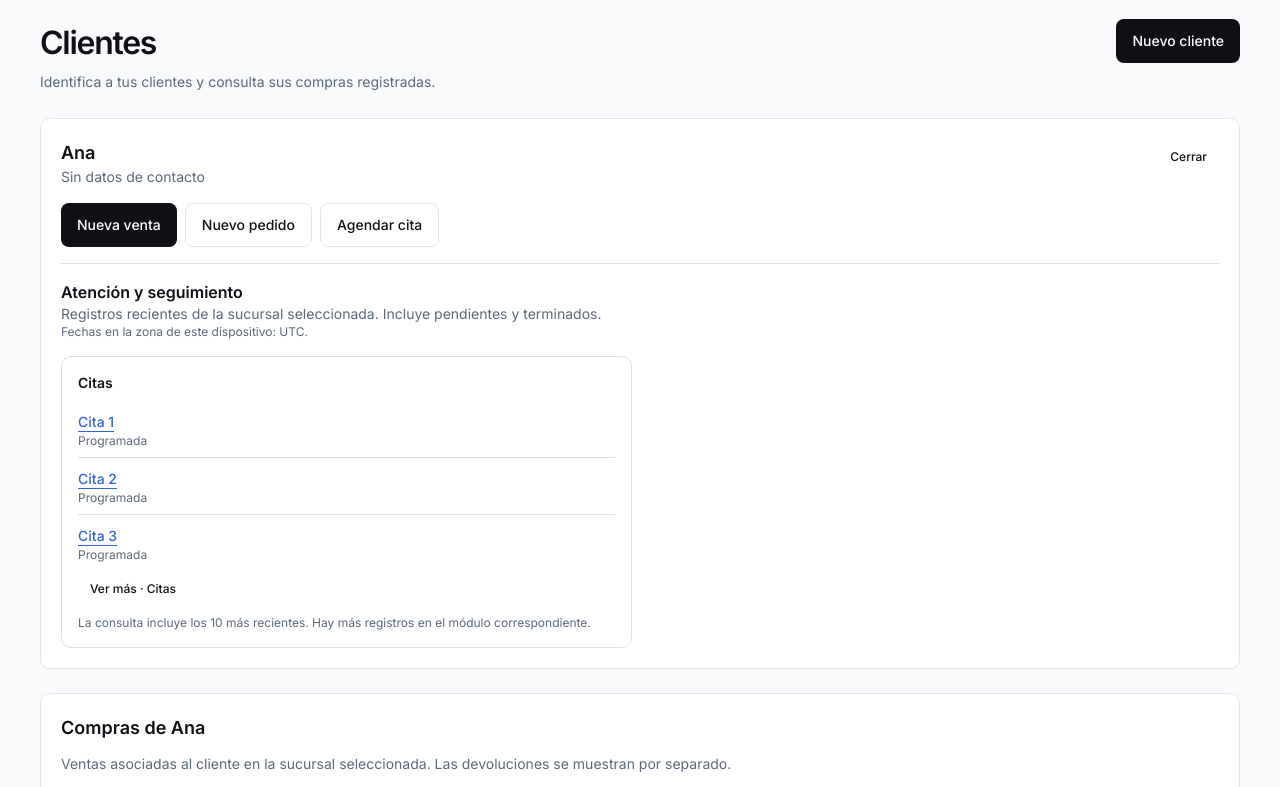
Test: Clientes › resume actividad extensa y permite ampliar sin ocultar compras ni acciones
expect the link "Cita 1" is shown: met, box x1=78 y1=413 x2=114 y2=430
expect the link "Cita 4" is not shown: met
Click the button "Ver más · Citas".
click(133, 589)  # box x1=78 y1=571 x2=188 y2=607
(page scrolled)
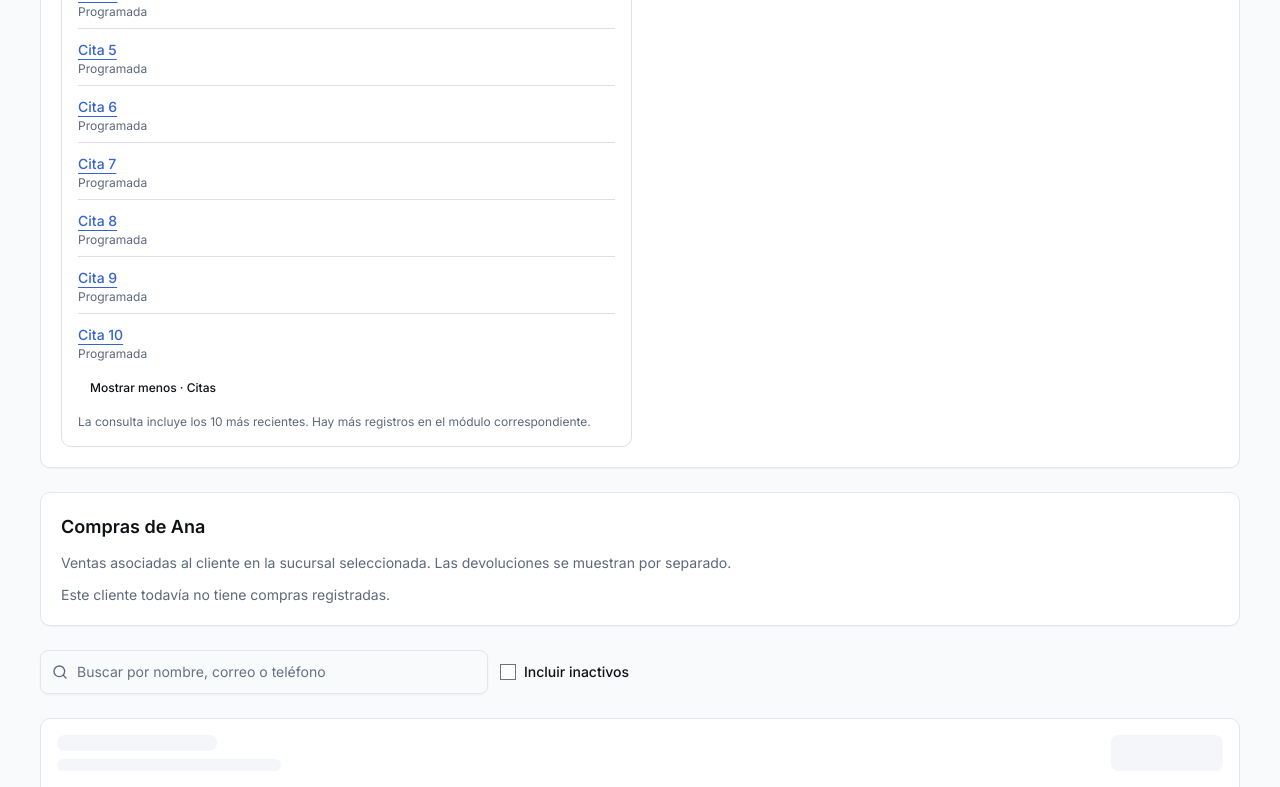
expect the link "Cita 10" is shown: met, box x1=78 y1=326 x2=123 y2=343
Click the button "Mostrar menos · Citas".
click(153, 388)  # box x1=78 y1=370 x2=228 y2=406
(page scrolled)
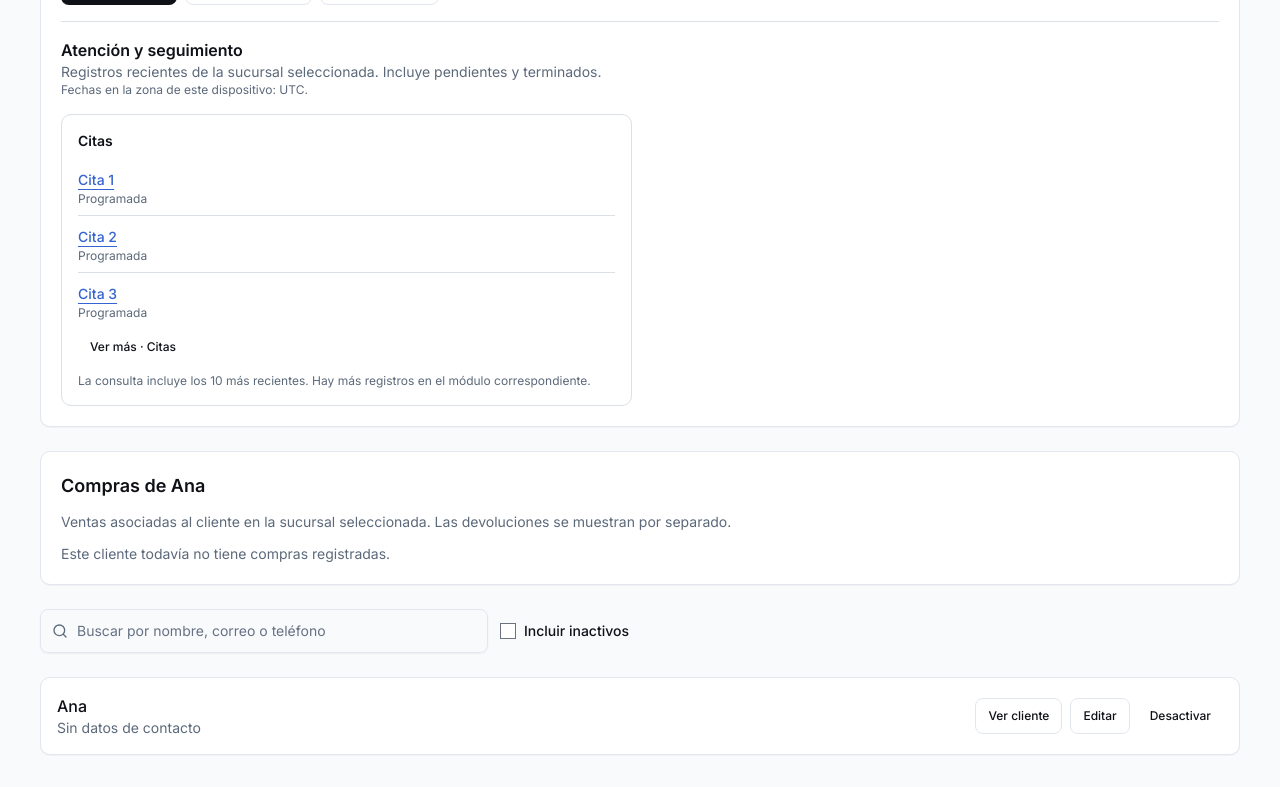
expect the heading "Compras de Ana" is shown: met, box x1=61 y1=472 x2=205 y2=500
expect the link "Cita 10" is gone: met
